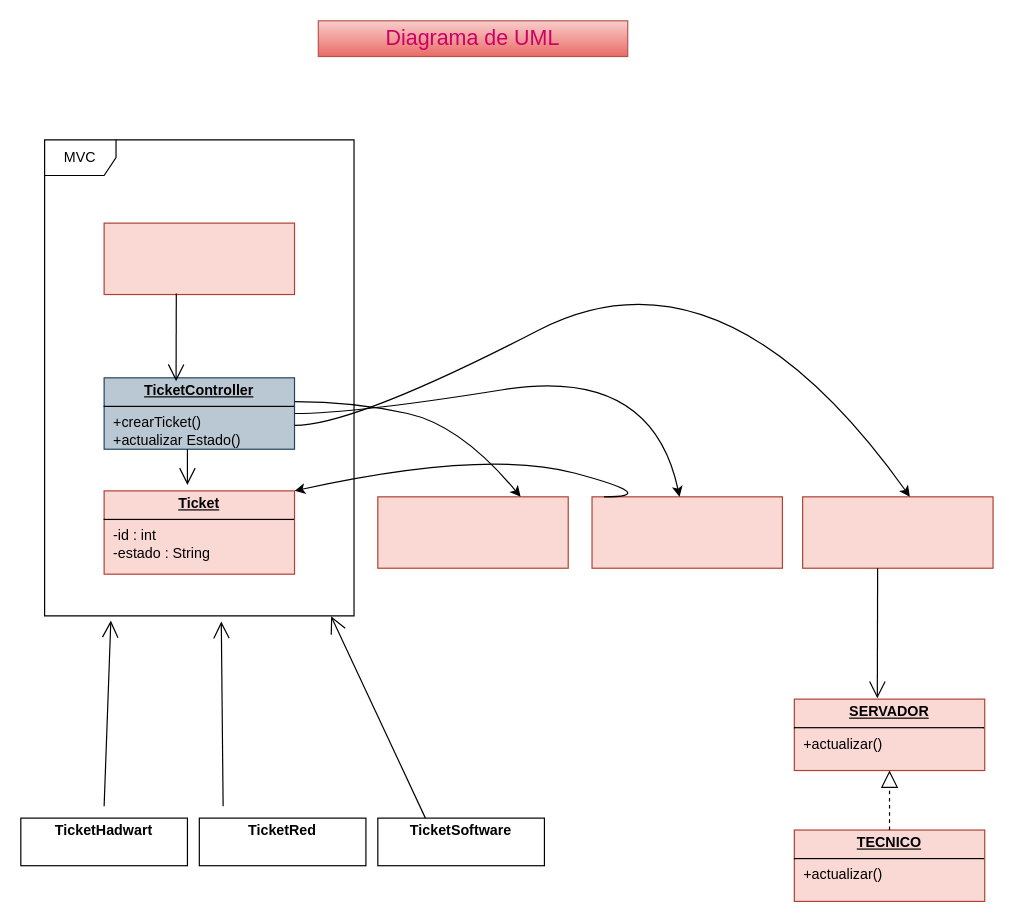
Image size: 1014x922. Some labels were removed from this diagram. The centre of each missing label's shape, as x and y in pixels:
"GestorTicket +getInstancia() +registrarTicket()" belongs at point (686, 532).
"SistemaNotificaciones +notificar" belongs at point (897, 532).
"TicketFactory +crearTicket(tipo)" belongs at point (472, 532).
"TicketView +mostrarTicket()" belongs at point (199, 258).
